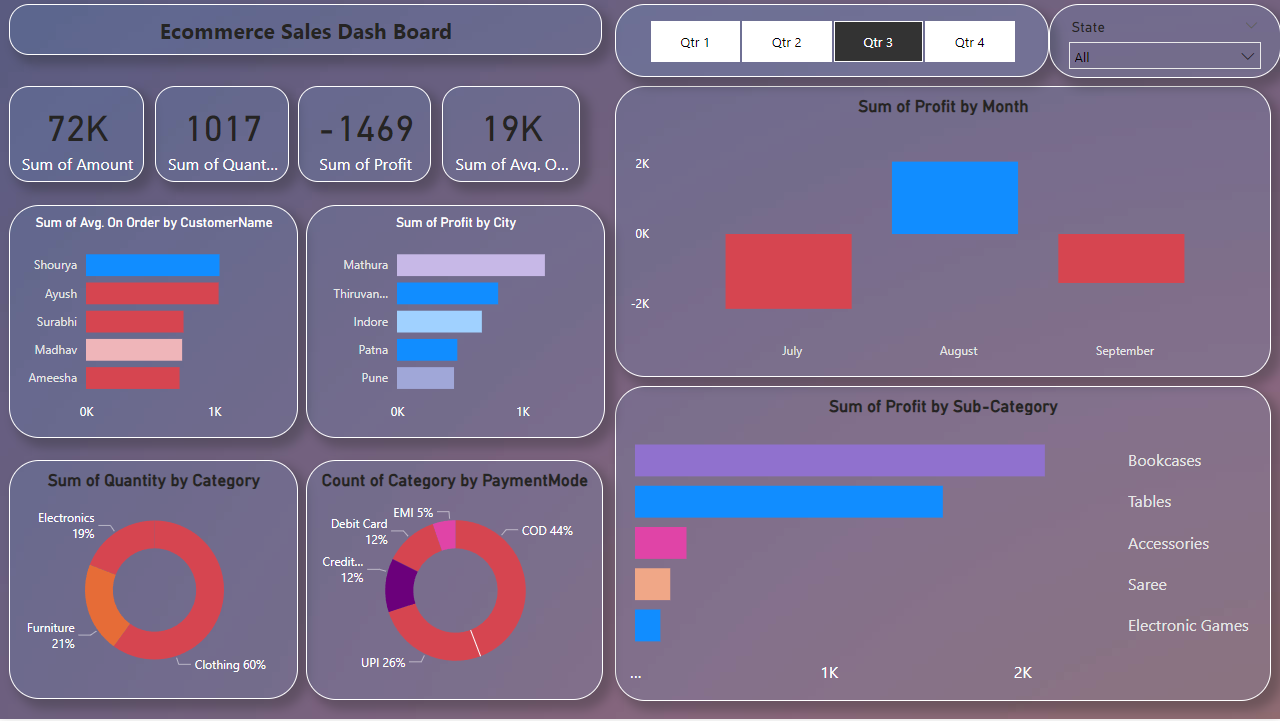

What the dashboard file says about the page in this screenshot:
{"tool":"powerbi","page":{"name":"Page 1","canvas":[1280,720],"ordinal":0},"visuals":[{"type":"textbox","box":[9.6,0,593.4,50.7],"z":0},{"type":"columnChart","fields":{"Y":["Details.Profit"],"Category":["Orders.Order Date.Variation.Date Hierarchy.Month"]},"box":[615.4,87.3,655.7,290.2],"z":1000},{"type":"barChart","fields":{"Category":["Details.Sub-Category"],"Y":["Details.Profit"]},"box":[615.1,387.1,656.1,314.8],"z":2000},{"type":"donutChart","fields":{"Category":["Details.Category"],"Y":["Details.Quantity"]},"box":[9.4,460.9,288.9,239.2],"z":3000},{"type":"donutChart","fields":{"Category":["Details.PaymentMode"],"Y":["Details.Category"]},"box":[306.4,460.9,297,240.5],"z":4000},{"type":"barChart","fields":{"Category":["Orders.CustomerName"],"Y":["Details.Avg. On Order"]},"box":[9.4,205.6,288.9,233.8],"z":5000},{"type":"barChart","fields":{"Category":["Orders.City"],"Y":["Details.Profit"]},"box":[306.4,205.6,298.3,233.8],"z":6000},{"type":"slicer","title":"Quarter","fields":{"Values":["Orders.Order Date.Variation.Date Hierarchy.Quarter"]},"box":[615.4,5.4,434,72.6],"z":7000},{"type":"card","fields":{"Values":["Details.Amount"]},"box":[9.4,87.3,134.4,95.4],"z":8000},{"type":"card","fields":{"Values":["Details.Quantity"]},"box":[154.5,87.3,134.4,95.4],"z":9000},{"type":"card","fields":{"Values":["Details.Profit"]},"box":[298.3,87.3,133,95.4],"z":10000},{"type":"card","fields":{"Values":["Details.Avg. On Order"]},"box":[442.1,87.3,138.4,95.4],"z":11000},{"type":"slicer","fields":{"Values":["Orders.State"]},"box":[1049.4,5.4,231.1,73.9],"z":12000}]}

Visuals, with their boxes in screenshot pixels (x1, y1, x2, y2), scaled from the page's 1280x720 canvas onto the 1280x721 screenshot:
textbox: [10,0,603,51]
columnChart - Details.Profit x Orders.Order Date.Variation.Date Hierarchy.Month: [615,87,1271,378]
barChart - Details.Sub-Category x Details.Profit: [615,388,1271,703]
donutChart - Details.Category x Details.Quantity: [9,462,298,701]
donutChart - Details.PaymentMode x Details.Category: [306,462,603,702]
barChart - Orders.CustomerName x Details.Avg. On Order: [9,206,298,440]
barChart - Orders.City x Details.Profit: [306,206,605,440]
"Quarter" slicer: [615,5,1049,78]
card - Details.Amount: [9,87,144,183]
card - Details.Quantity: [154,87,289,183]
card - Details.Profit: [298,87,431,183]
card - Details.Avg. On Order: [442,87,580,183]
slicer - Orders.State: [1049,5,1279,79]
